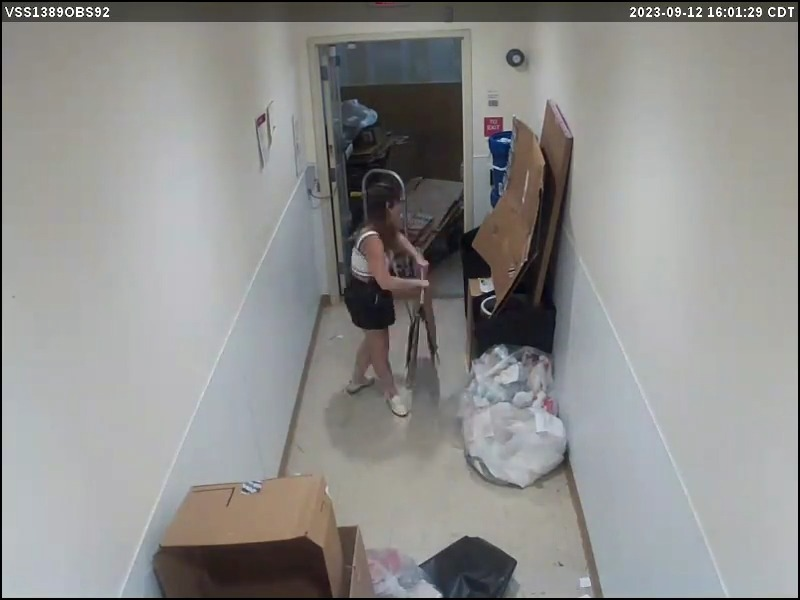No-gloves: (405, 270, 440, 301), (408, 246, 435, 269)
